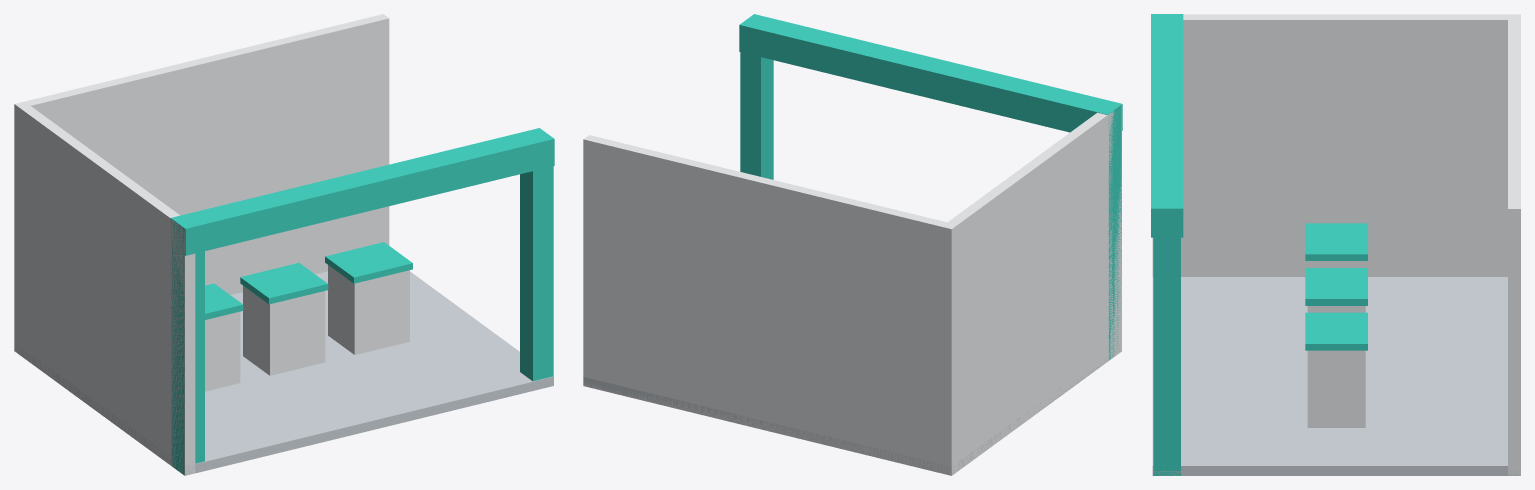
3 views of the same model, side by side, from view 1: azimuth 30°, elevation 25°; view 2: azimuth 150°, elevation 25°; view 3: azimuth 270°, elevation 25° (orthographic). The views are drawn at different scales.
Visible parts, largest first — view 1: Exhibition Booth Concept; view 2: Exhibition Booth Concept; view 3: Exhibition Booth Concept.
Boxes of the visible parts, x1,y1,x2,y2 form: Exhibition Booth Concept: (14, 14, 554, 475); Exhibition Booth Concept: (583, 14, 1122, 475); Exhibition Booth Concept: (1151, 14, 1520, 475).
Size of the model in its own units: 5 by 3.2 by 4.02.
